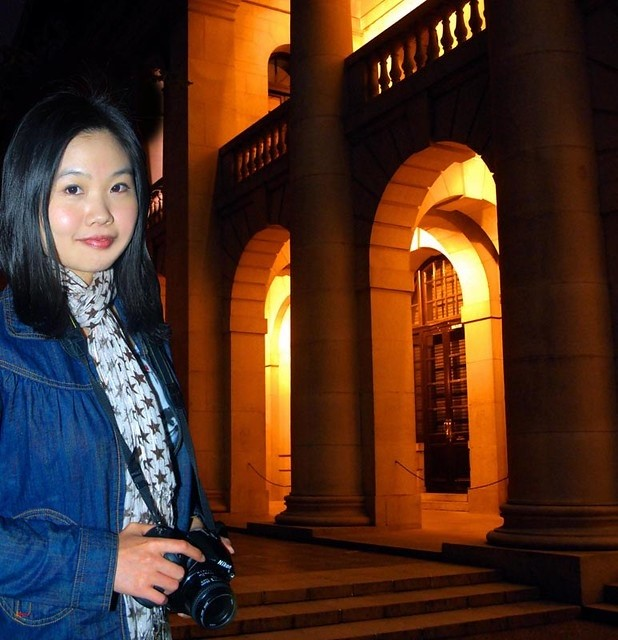face_no_mask: (17, 107, 147, 270)
